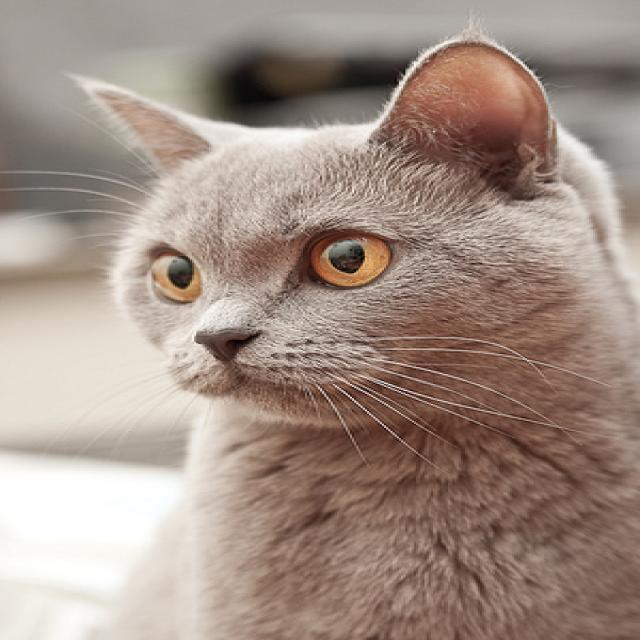British Shorthair: (66, 27, 640, 640)
